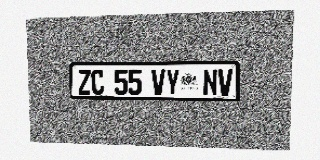5: (114, 69, 128, 95), (128, 69, 142, 95)
C: (91, 69, 104, 95)
N: (203, 69, 218, 96)
V: (218, 69, 233, 96), (151, 69, 165, 95)
Y: (166, 69, 180, 95)
Z: (78, 69, 91, 95)
